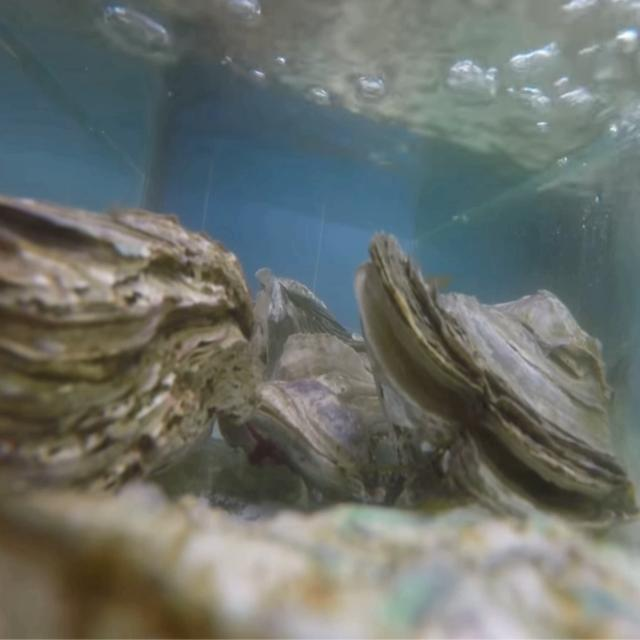Oyster-Closed: (0, 196, 255, 521), (249, 335, 409, 509)
Oyster-Indeterminate: (0, 482, 640, 640)
Oyster-Open: (355, 232, 640, 542)
